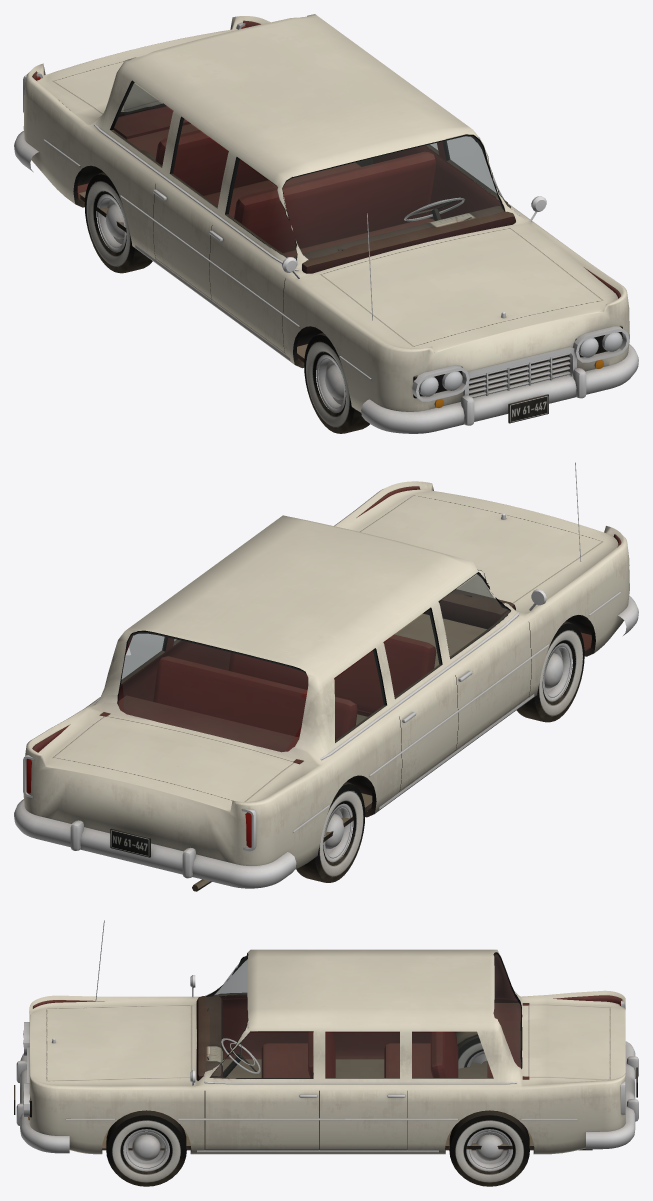
Rendered from nuketown_car_white.glb.
The picture shows the model from 3 angles, top to bottom: view 1: azimuth 30°, elevation 25°; view 2: azimuth 150°, elevation 25°; view 3: azimuth 270°, elevation 25°; orthographic projection. The views are drawn at different scales.
Parts seen in each view (by area): view 1: car_white_A, car_white_B, car_white_glass; view 2: car_white_A, car_white_B, car_white_glass; view 3: car_white_A, car_white_B, car_white_glass.
Part boxes in pixels (x1,y1,x2,y2): car_white_A: (14, 14, 638, 433); car_white_B: (32, 20, 620, 433); car_white_glass: (114, 82, 508, 259); car_white_A: (14, 462, 638, 888); car_white_B: (32, 486, 621, 891); car_white_glass: (121, 573, 509, 751); car_white_A: (14, 920, 638, 1154); car_white_B: (33, 955, 622, 1186); car_white_glass: (205, 953, 521, 1077).
Bounding box in the file's own units: 2 × 1.68 × 5.19.
Materials: 3 (2 with a texture image).
